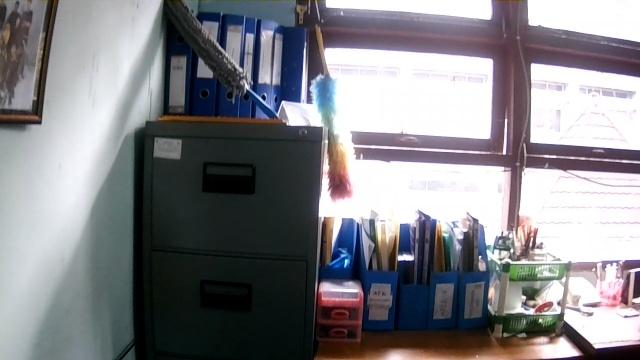Filing Cabinet: (135, 120, 323, 359)
